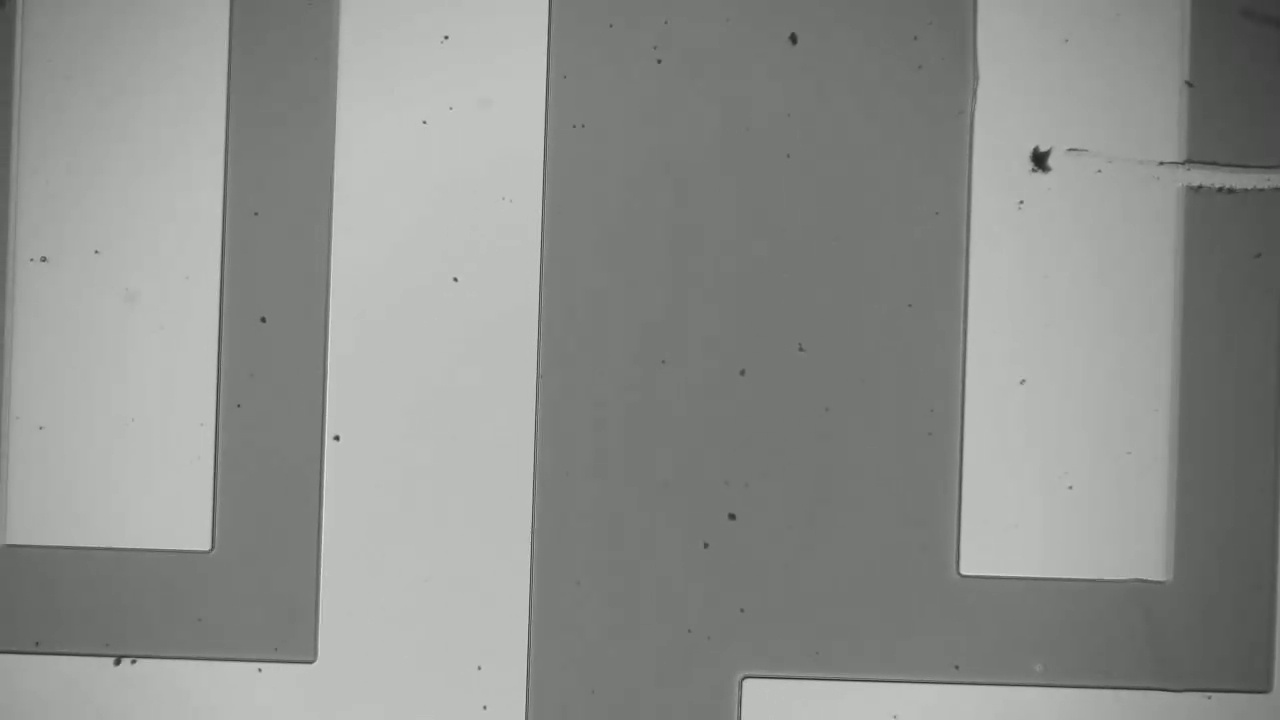Short_circuit: (1131, 130, 1279, 223)
